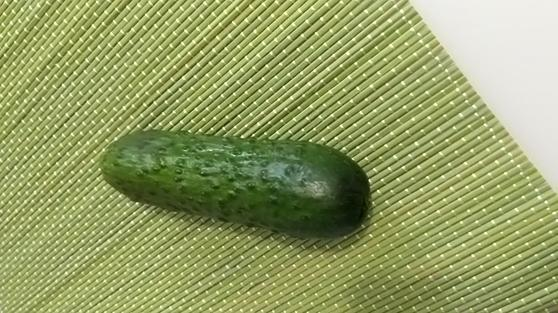cucumber: (93, 122, 374, 242)
